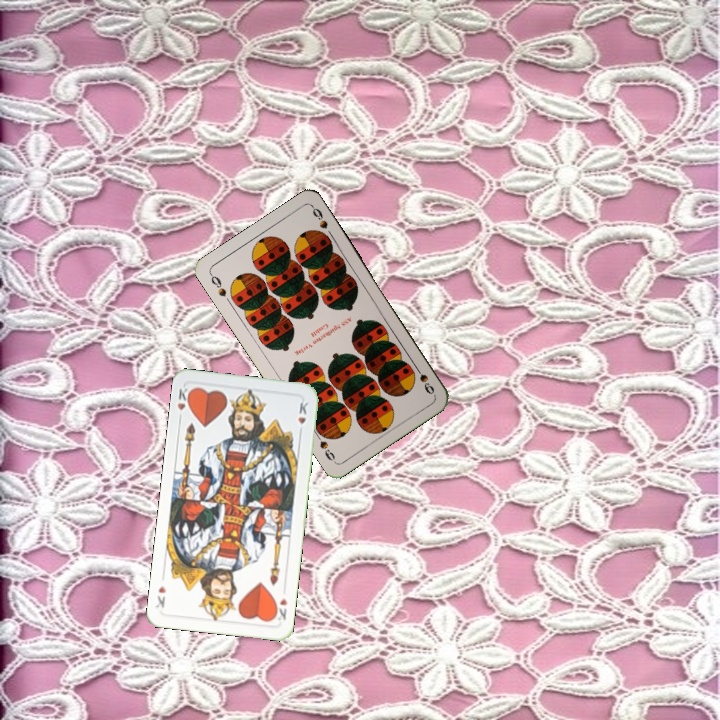HK: (173, 383, 194, 424), (270, 594, 290, 623)
S9: (410, 361, 437, 397), (206, 270, 229, 299)
